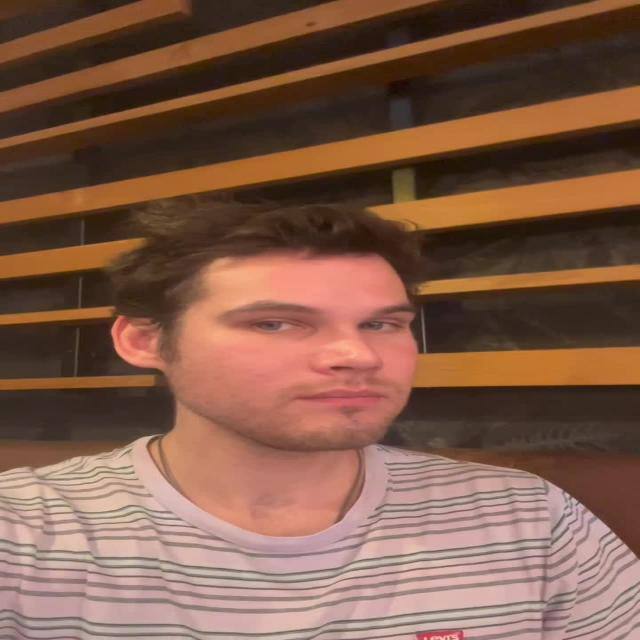earlobe: (128, 348, 163, 370)
eye: (250, 318, 305, 332), (360, 320, 401, 332)
nose: (322, 370, 378, 389)
wholeear: (110, 314, 163, 369)
